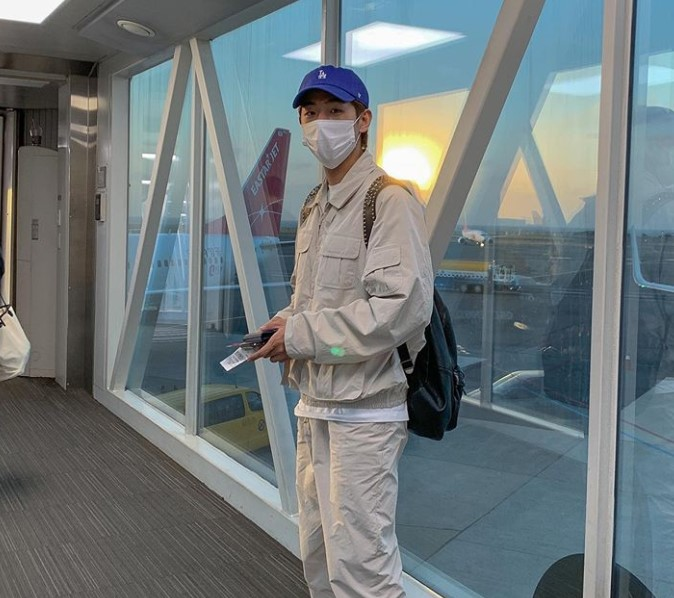face_with_mask: (290, 65, 372, 171)
